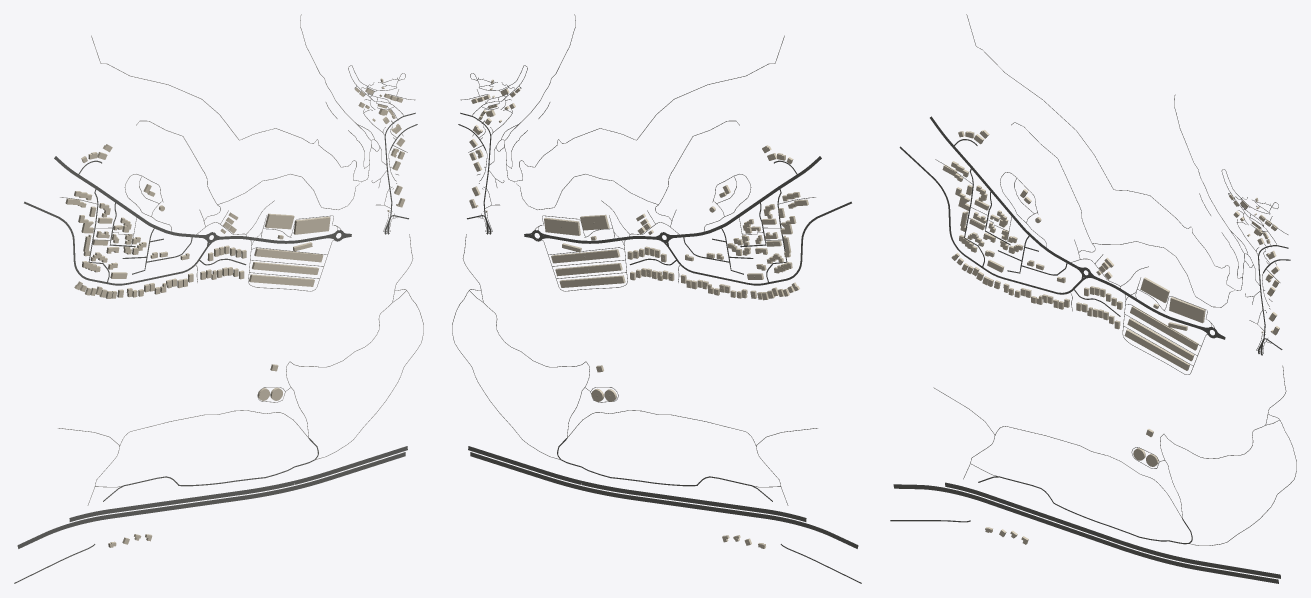
Rendered from historic-palestine-09_24_3508_3180.glb.
The picture shows the model from 3 angles, left to right: view 1: azimuth 30°, elevation 25°; view 2: azimuth 150°, elevation 25°; view 3: azimuth 330°, elevation 25°; orthographic projection.
Parts seen in each view (by area): view 1: Road כביש ירושלים תל אביב.002, Road כביש ירושלים תל אביב, Road כביש ירושלים תל אביב.003, Road דרך התקווה.002, Building_.026, Road הרעות.001, Road כביש ירושלים תל אביב.001, Building_.023, Building_.022, Building_.021; view 2: Road כביש ירושלים תל אביב.002, Road כביש ירושלים תל אביב, Road כביש ירושלים תל אביב.003, Road דרך התקווה.002, Building_.026, Road הרעות.001, Road כביש ירושלים תל אביב.001, Building_.023, Building_.021, Building_.022; view 3: Road כביש ירושלים תל אביב.002, Road כביש ירושלים תל אביב, Road כביש ירושלים תל אביב.003, Building_.026, Road דרך התקווה.002, Building_.021, Road הרעות.001, Building_.023, Road כביש ירושלים תל אביב.001, Building_.022.
Part boxes in pixels (x1,y1,x2,y2): Road כביש ירושלים תל אביב.002: [160, 452, 405, 511]; Road כביש ירושלים תל אביב: [69, 481, 294, 521]; Road כביש ירושלים תל אביב.003: [17, 507, 160, 548]; Road דרך התקווה.002: [54, 156, 202, 237]; Building_.026: [254, 248, 323, 262]; Road הרעות.001: [24, 201, 207, 285]; Road כביש ירושלים תל אביב.001: [294, 446, 407, 484]; Building_.023: [249, 274, 314, 286]; Building_.022: [293, 216, 330, 234]; Building_.021: [252, 262, 318, 274]; Road כביש ירושלים תל אביב.002: [470, 452, 715, 511]; Road כביש ירושלים תל אביב: [581, 481, 806, 521]; Road כביש ירושלים תל אביב.003: [715, 507, 858, 548]; Road דרך התקווה.002: [673, 156, 821, 237]; Building_.026: [551, 249, 620, 263]; Road הרעות.001: [668, 201, 851, 285]; Road כביש ירושלים תל אביב.001: [468, 446, 581, 484]; Building_.023: [559, 275, 625, 287]; Building_.021: [555, 263, 622, 276]; Building_.022: [544, 217, 580, 235]; Road כביש ירושלים תל אביב.002: [1035, 516, 1278, 583]; Road כביש ירושלים תל אביב: [945, 482, 1167, 558]; Road כביש ירושלים תל אביב.003: [893, 484, 1035, 519]; Building_.026: [1130, 306, 1198, 350]; Road דרך התקווה.002: [930, 116, 1077, 268]; Building_.021: [1127, 318, 1194, 361]; Road הרעות.001: [899, 146, 1082, 294]; Building_.023: [1124, 329, 1189, 370]; Road כביש ירושלים תל אביב.001: [1168, 554, 1280, 578]; Building_.022: [1169, 297, 1205, 323].
Size of the model in its own units: 1189 by 1469 by 10.5.
